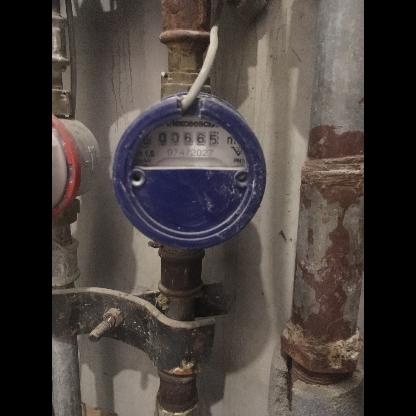digital_screen: (154, 127, 222, 149)
